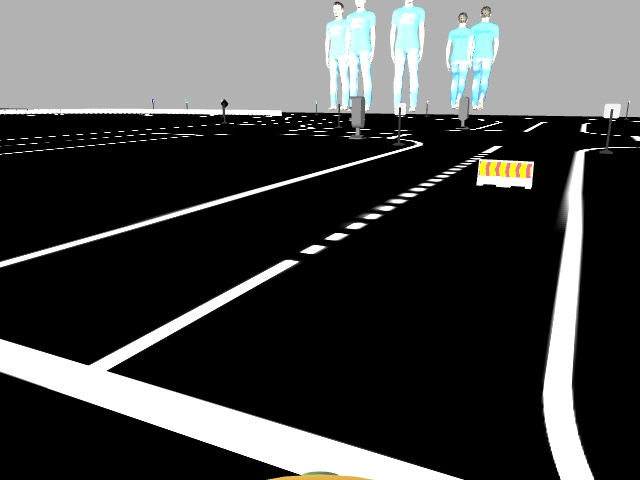ClosedRoadStand: (478, 158, 532, 189)
